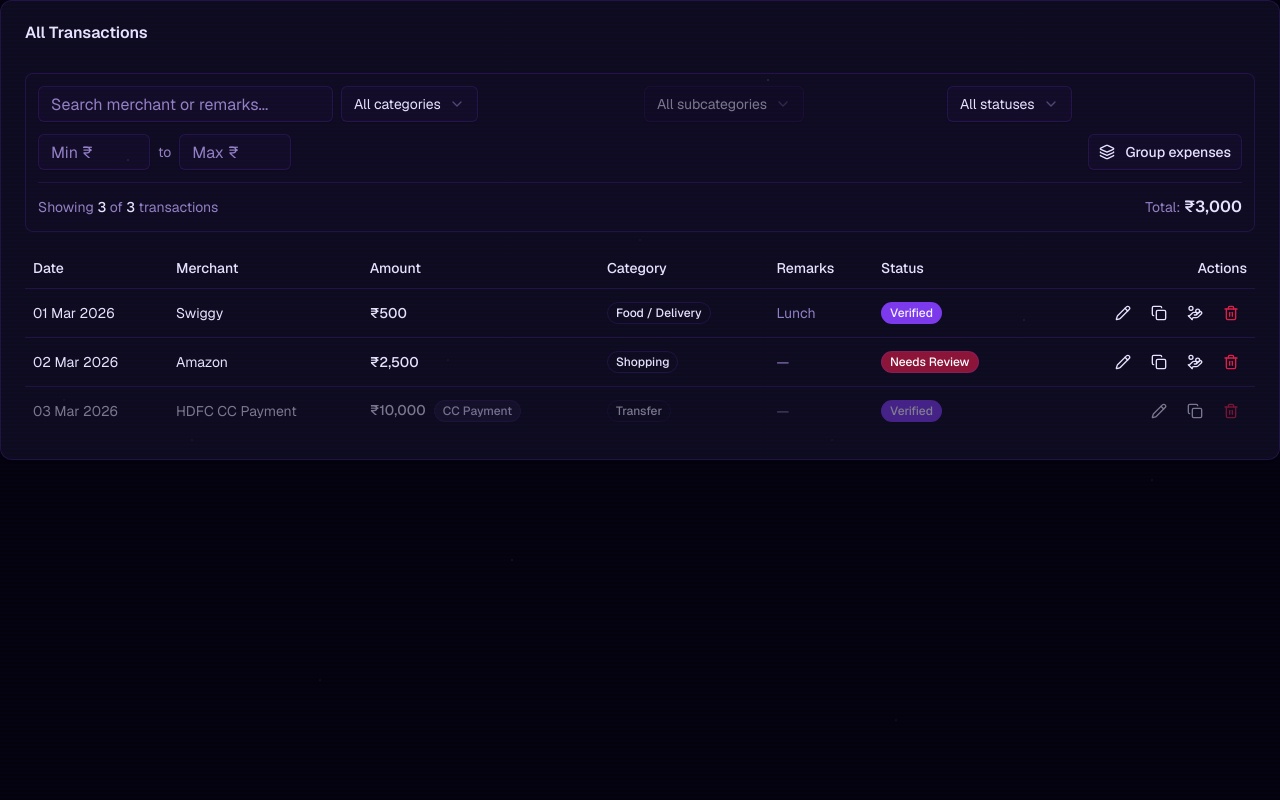
Test: TransactionTable filters › filters by amount range
Type "1000" into the number field named "Minimum amount" at [94, 152], box [38,134,150,170]
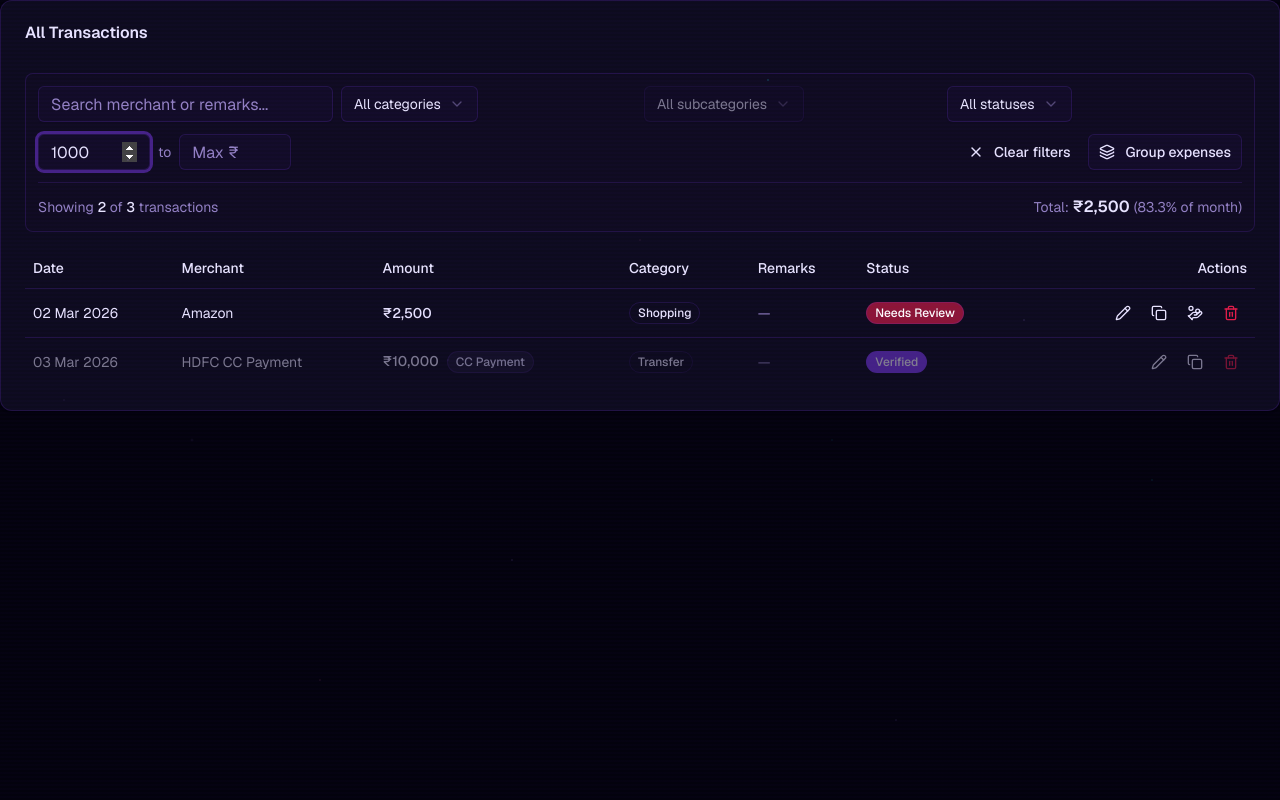
Expected: the text "Amazon" is shown, [174,288,375,337]
Result: the text "Swiggy" is gone
Result: the text "Showing 2 of 3 transactions" is shown at [38,197,218,217]
